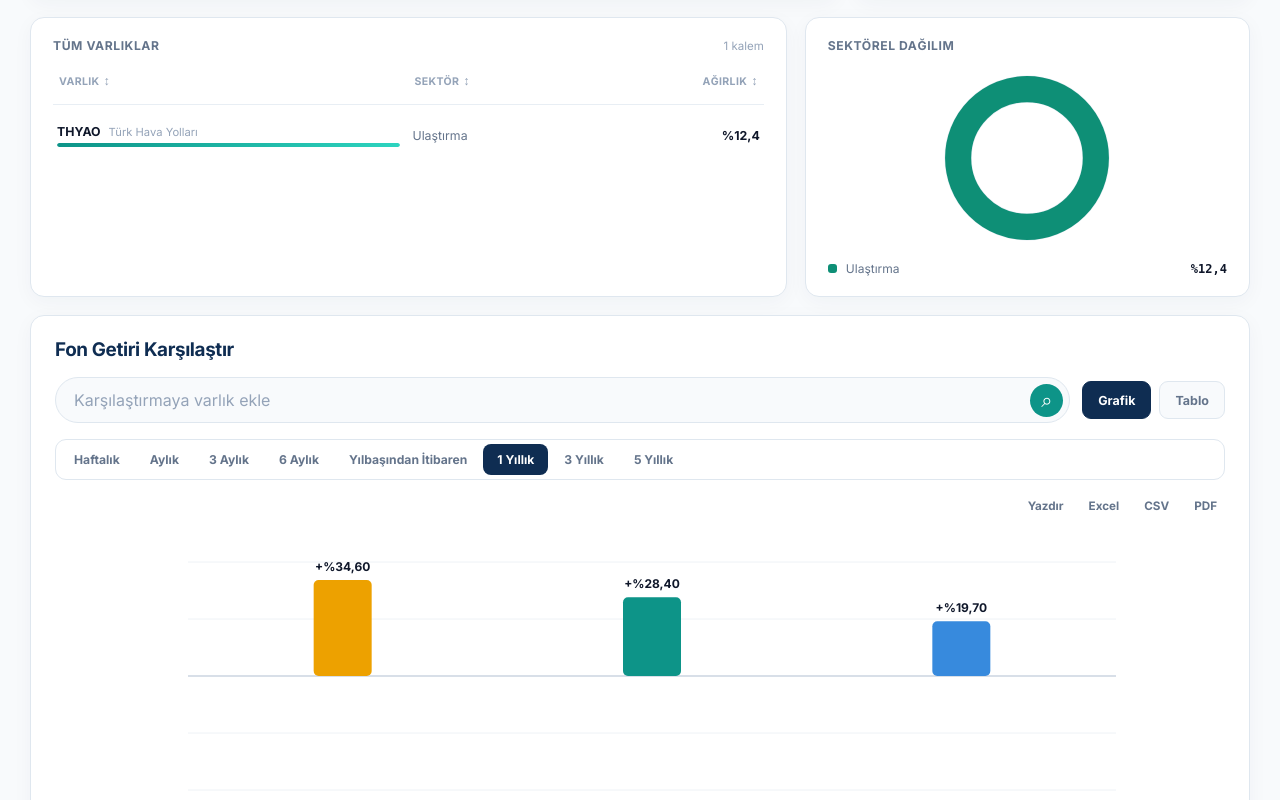
Scenario: FundMonitoringView › getiri karşılaştırmasını dönem ve görünüm seçimleriyle günceller
(page scrolled)
Expected: the heading "Fon Getiri Karşılaştır" is shown, [55,338,234,361]
What coordinates should you click on to do the following:
click the button "Tablo"
I would click on:
 (1192, 400)
Its box is [1160,381,1225,419].
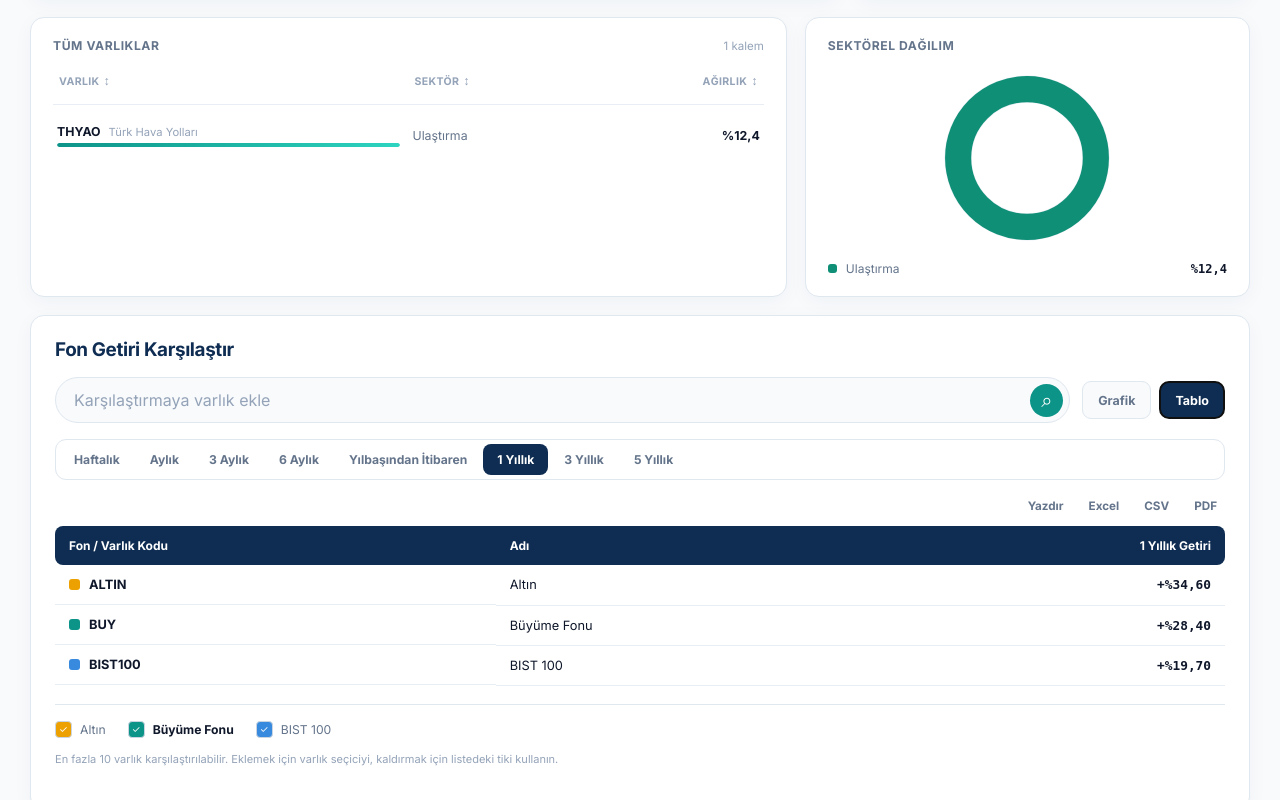
Expected: the text "+%34,60" is shown, [880,565,1225,605]
Now the column heading "1 Yıllık Getiri" is shown, box [880,526,1225,565]
What coordinates should you click on to do the following:
click the button "3 Aylık"
I would click on:
 (229, 460)
Its box is [195,444,263,475].
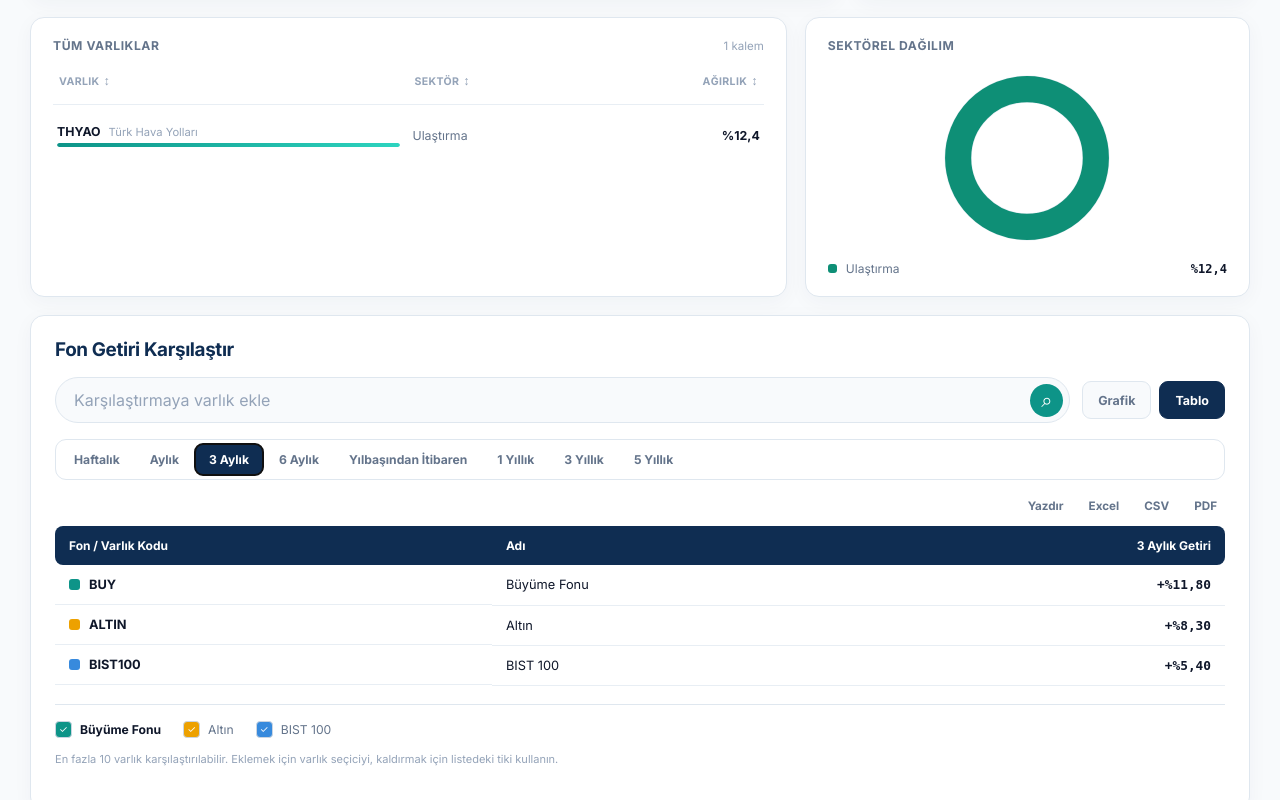
Now the column heading "3 Aylık Getiri" is shown, box [873,526,1225,565]
Now the text "+%11,80" is shown, box [873,565,1225,605]
